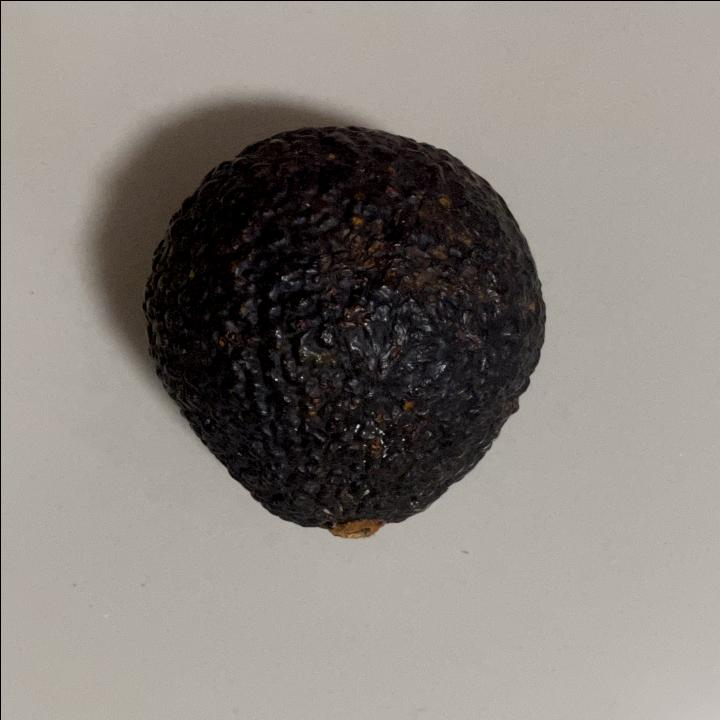Level2: (136, 118, 558, 548)
